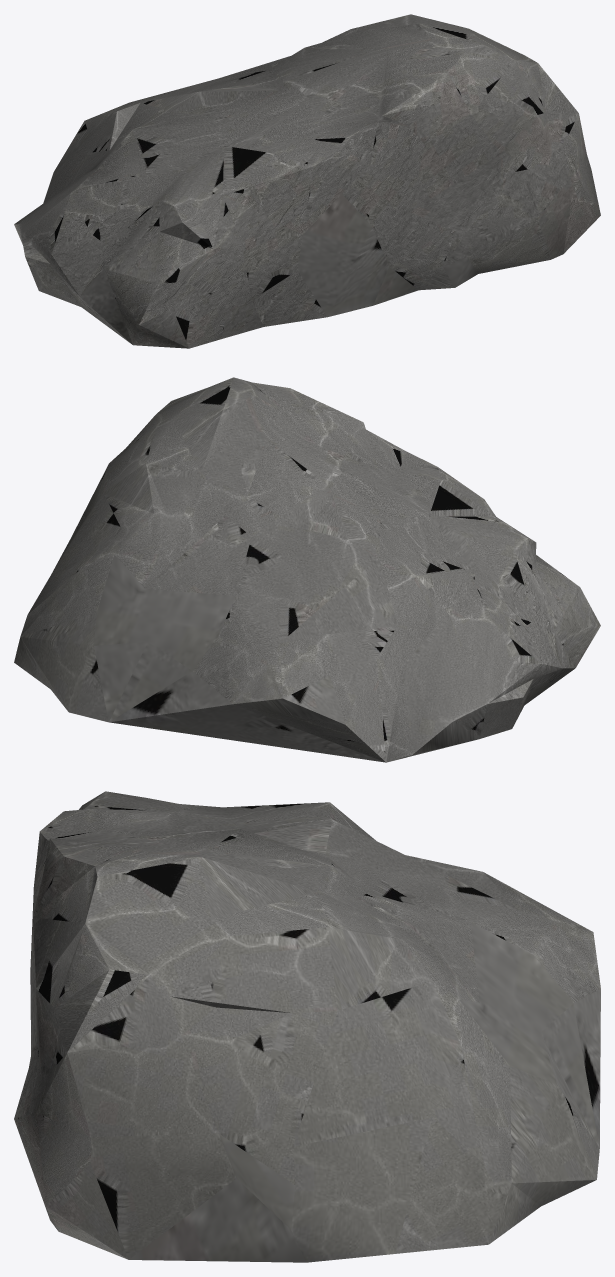
The model's file is co_angular_silicate_lod1.glb.
3 renders of one model, top to bottom at view 1: azimuth 30°, elevation 25°; view 2: azimuth 150°, elevation 25°; view 3: azimuth 270°, elevation 25°, orthographic. The views are drawn at different scales.
Parts seen in each view (by area): view 1: output_unwrapped; view 2: output_unwrapped; view 3: output_unwrapped.
Part boxes in pixels (<box>): output_unwrapped: <box>14,14,600,348</box>; output_unwrapped: <box>14,377,600,762</box>; output_unwrapped: <box>14,791,600,1262</box>.
Size of the model in its own units: 1.88 by 0.7871 by 1.35.
1 material, 1 textured.
